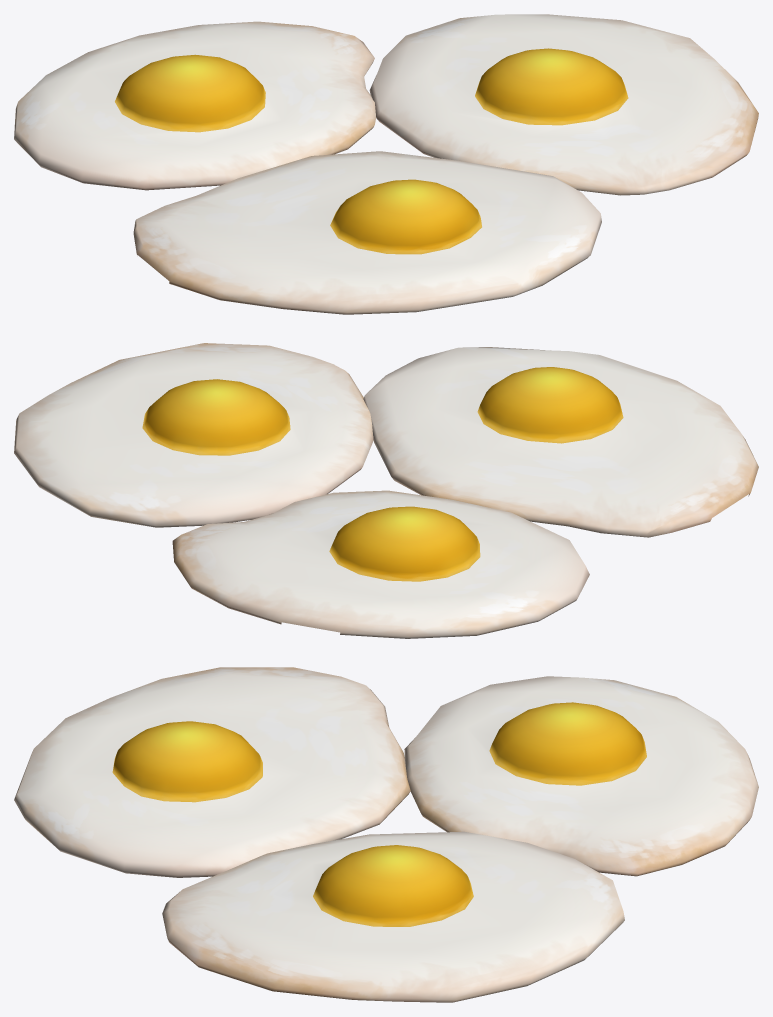
File: EggsInPan01.fbx
The picture shows the model from 3 angles, top to bottom: view 1: azimuth 30°, elevation 25°; view 2: azimuth 150°, elevation 25°; view 3: azimuth 270°, elevation 25°; orthographic projection. The views are drawn at different scales.
Visible parts, largest first — view 1: egg02, egg03, egg01; view 2: egg02, egg03, egg01; view 3: egg02, egg03, egg01.
Part boxes in pixels (x1,y1,x2,y2): egg02: (133, 151, 601, 314); egg03: (369, 14, 758, 195); egg01: (14, 21, 376, 190); egg02: (363, 347, 758, 537); egg03: (14, 343, 373, 527); egg01: (172, 490, 589, 638); egg02: (14, 667, 410, 877); egg03: (162, 831, 624, 1002); egg01: (404, 676, 758, 876).
Size of the model in its own units: 38.37 by 3.05 by 36.89.
